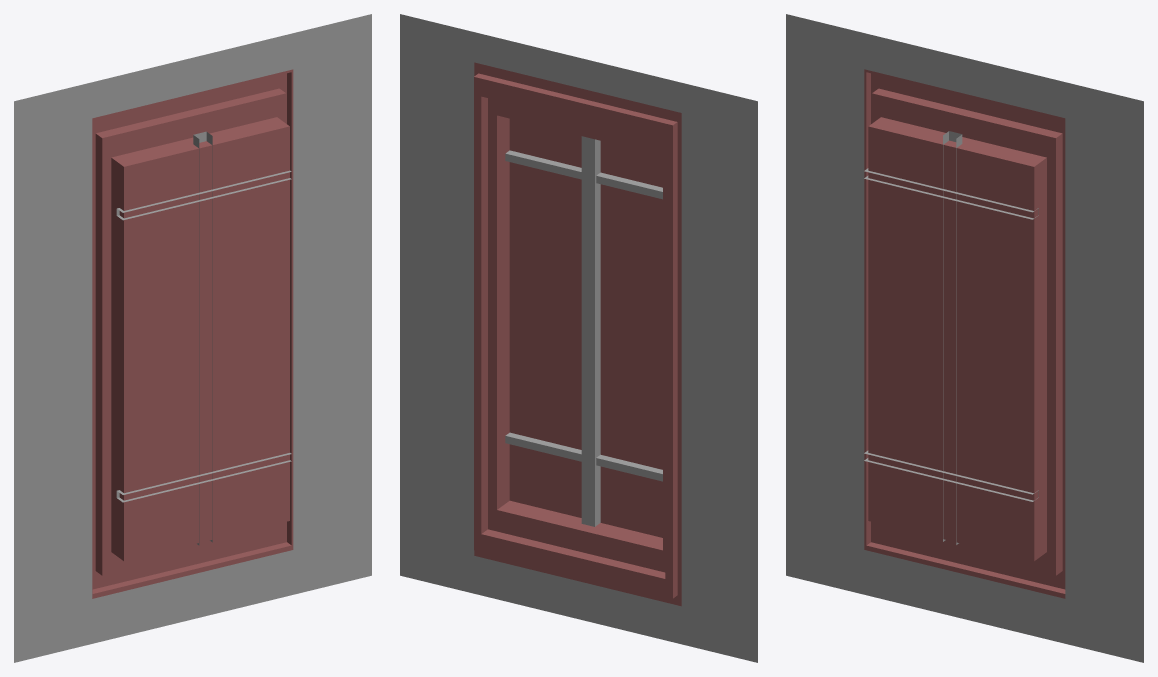
File: 2x3OldLargeWindow3.fbx
3 renders of one model, left to right at view 1: azimuth 30°, elevation 25°; view 2: azimuth 150°, elevation 25°; view 3: azimuth 330°, elevation 25°, orthographic.
Parts seen in each view (by area): view 1: polySurface87; view 2: polySurface87; view 3: polySurface87.
Part boxes in pixels (left/top/right/bottom): polySurface87: left=14, top=14, right=371, bottom=662; polySurface87: left=400, top=14, right=757, bottom=662; polySurface87: left=786, top=14, right=1143, bottom=662.
Size of the model in its own units: 2 by 3 by 0.2041.
